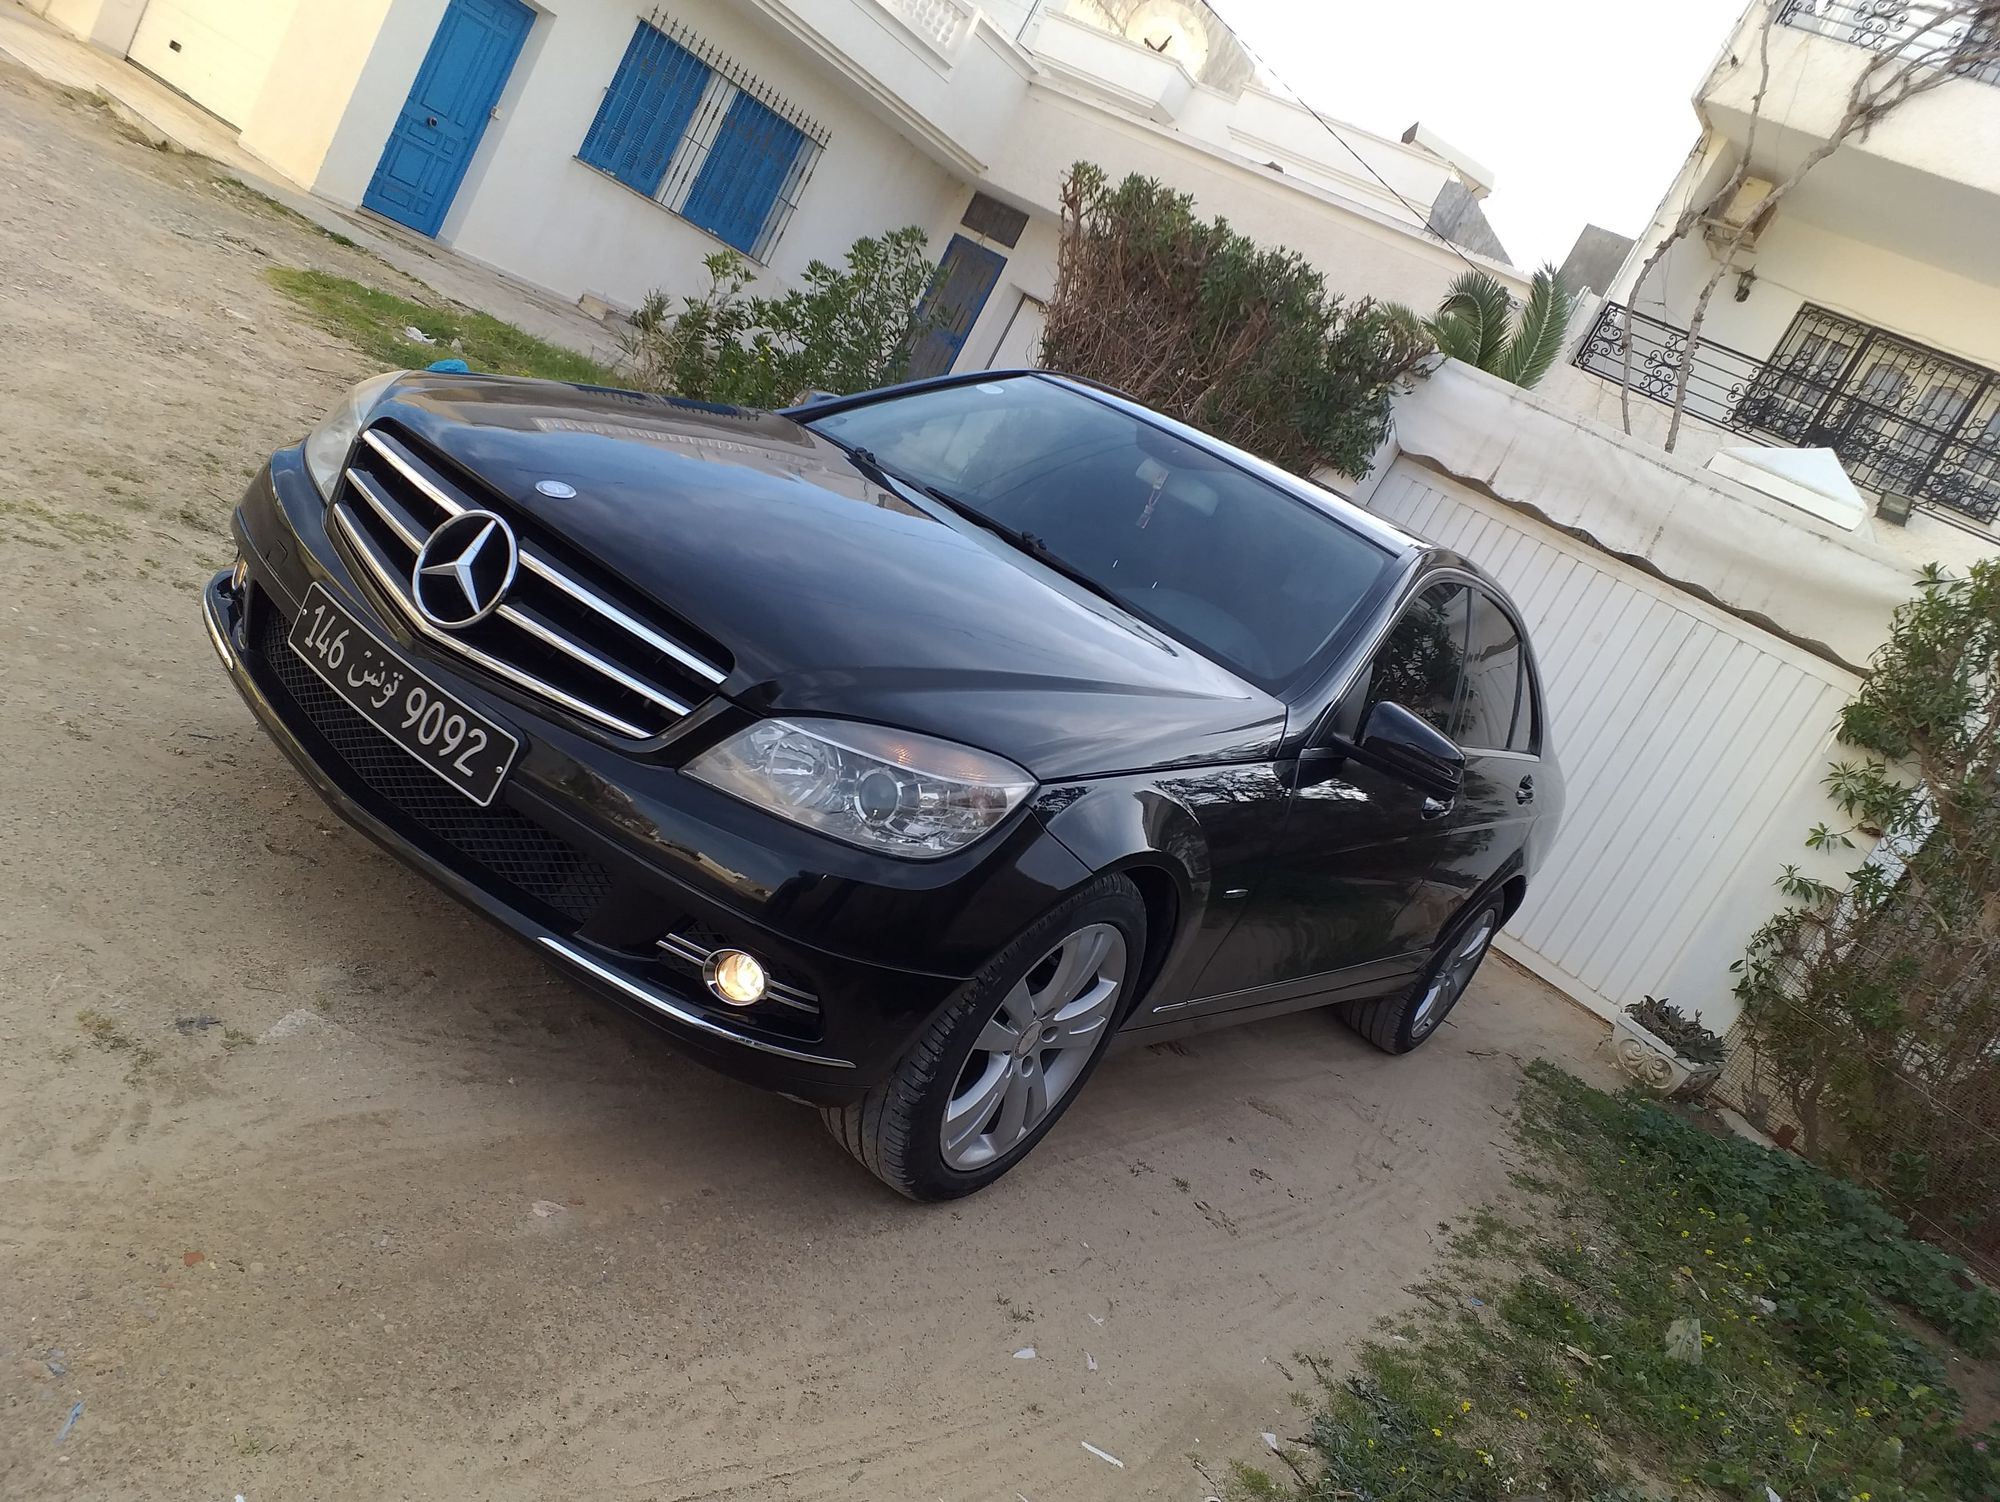LP: (283, 577, 517, 812)
